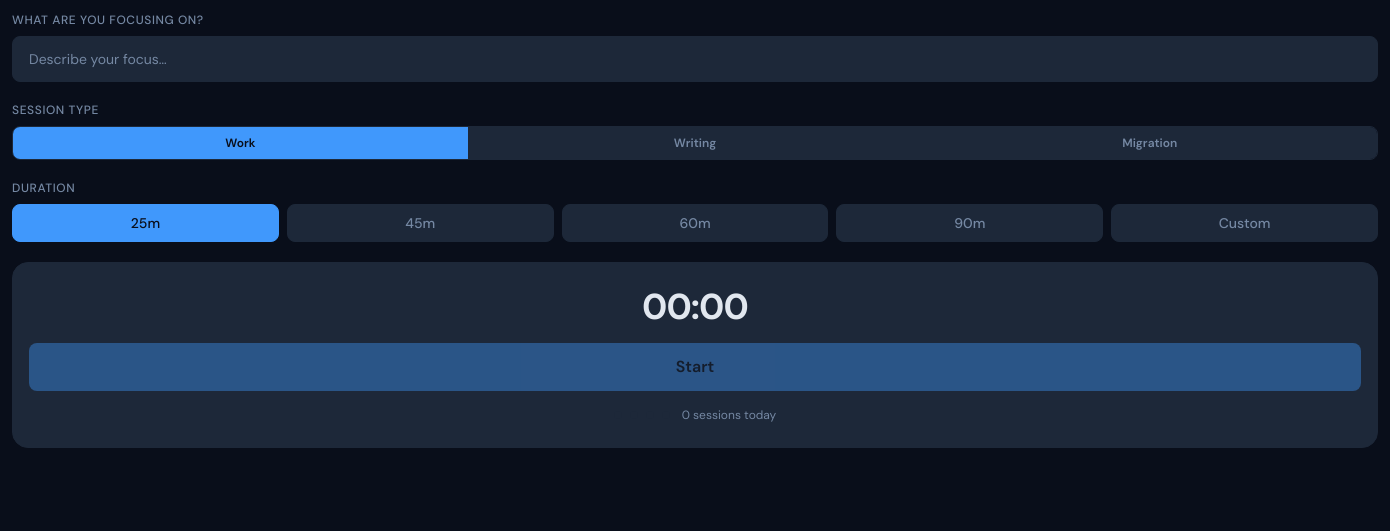
SessionPanel — custom duration › shows cap note when custom value exceeds 120
Click the button "Custom". click: point(1245, 223)
box: [1111,204,1378,242]
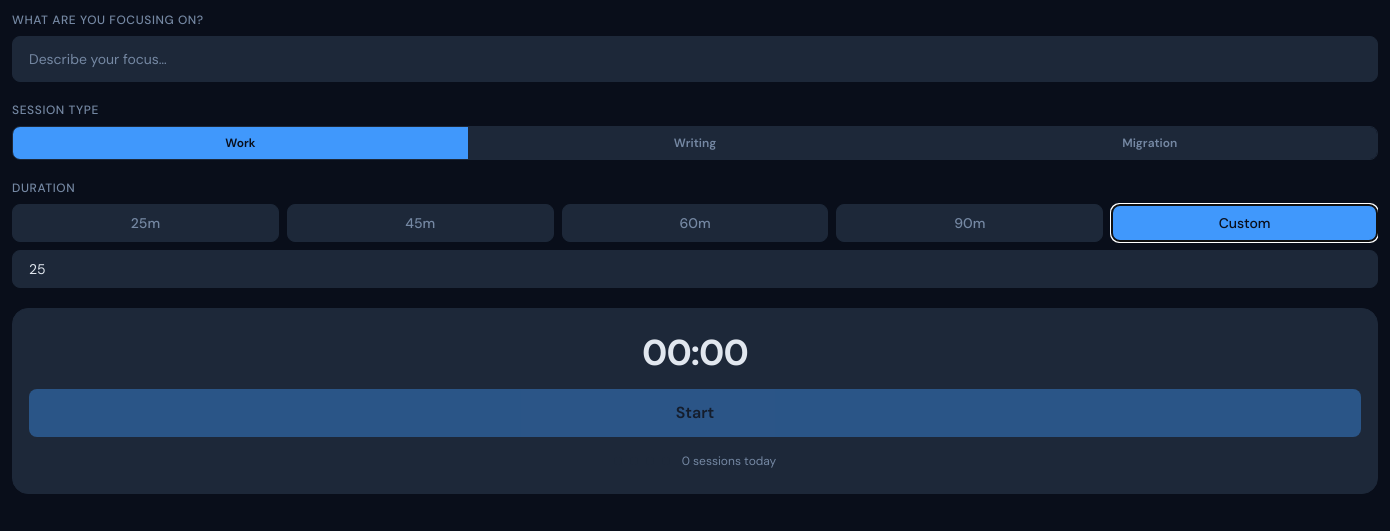
Replace the text in the number field with placeholder "Minutes (25–120)" with "150". click: point(695, 269)
box: [12,250,1378,288]
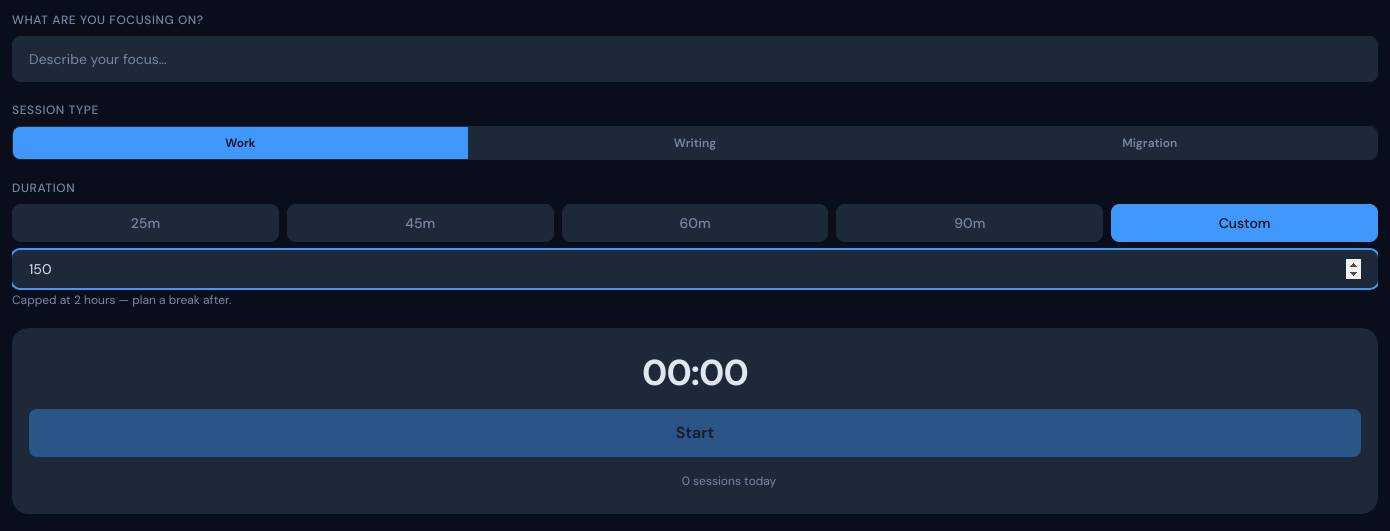
Now the text "Capped at 2 hours — plan a break after." is shown, box [12,292,231,308]
